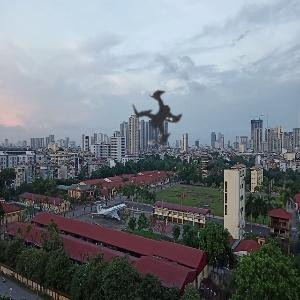drone: (78, 41, 235, 198)
